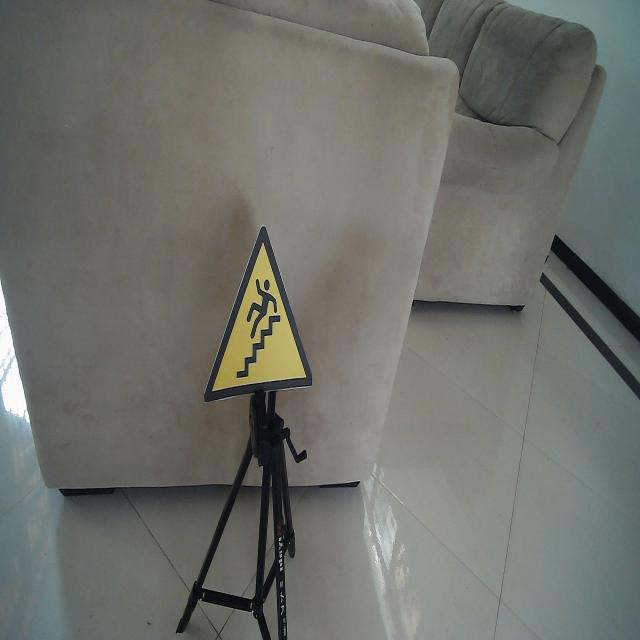stairs: (202, 222, 314, 406)
